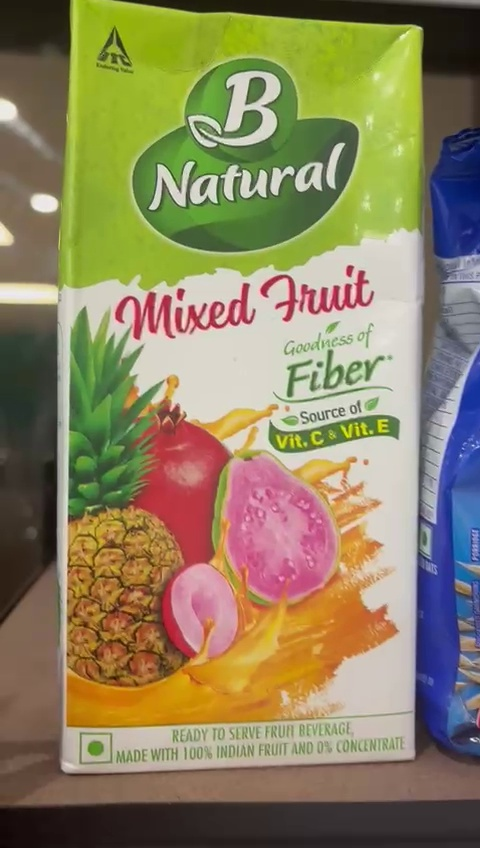Mixed Fruit: (64, 0, 418, 761)
